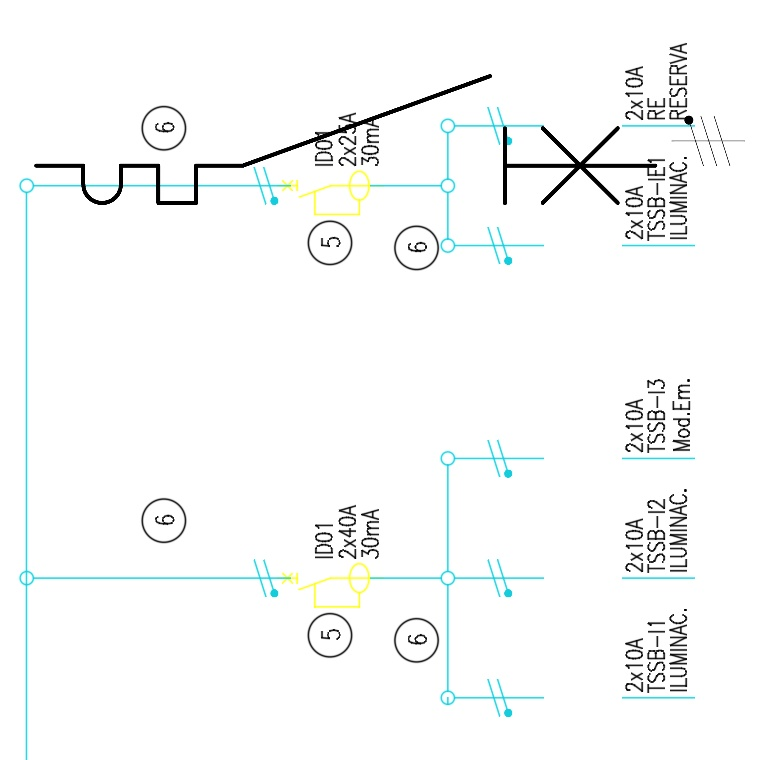interruptor_termomagnetico: (20, 60, 671, 219)
